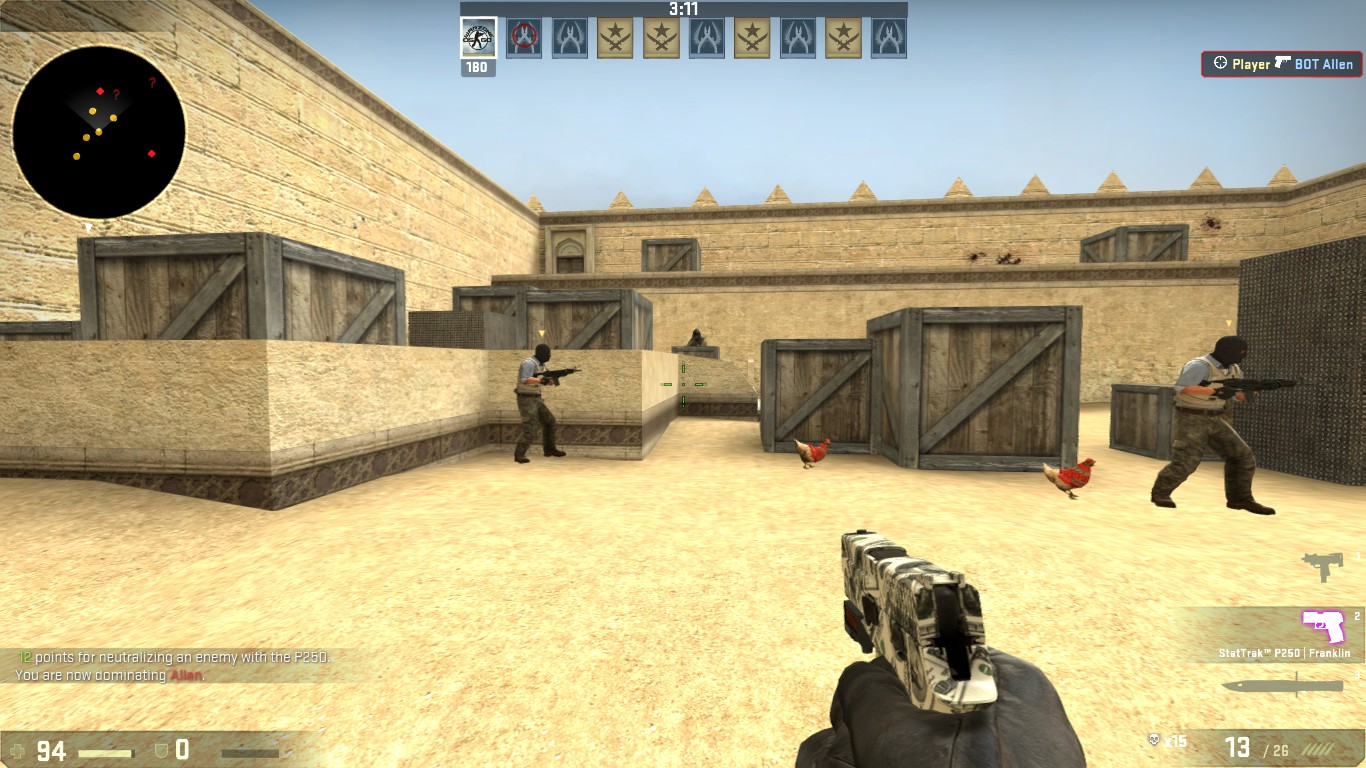ch: (688, 326, 706, 345)
t: (1162, 334, 1261, 509), (510, 343, 569, 465)
th: (1206, 333, 1254, 376), (532, 342, 555, 369)
